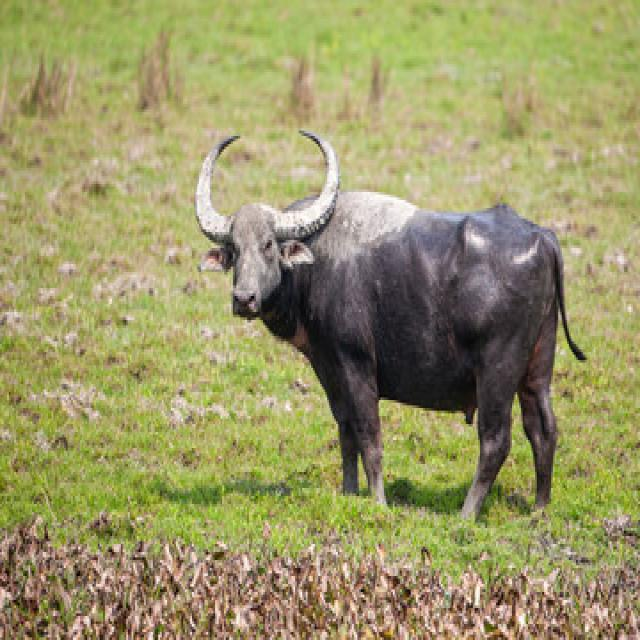Buffalo: (192, 123, 587, 525)
